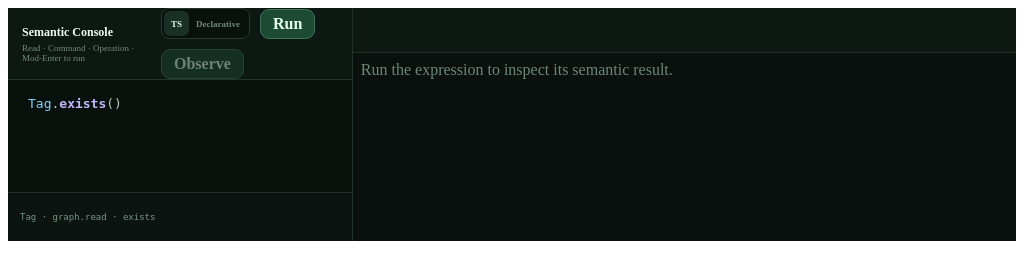
Scenario: Console exists reads › rejects a malformed nullable get result []
Click the button "Run" at (288, 24), box [260,8,315,38]
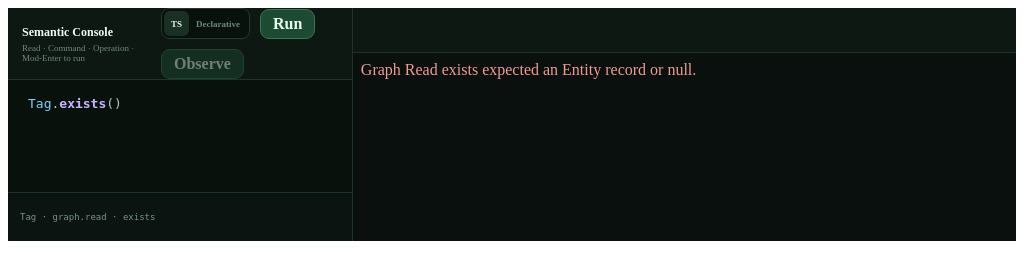
Result: the message reads "Graph Read exists expected an Entity record or null." at [361,61,696,78]
